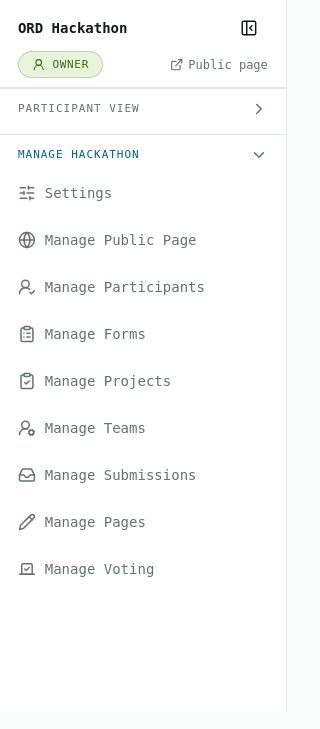
it: HackathonSidebar's Participant View section › closes again from the chevron
The width and height of the screenshot is (320, 729).
What coordinates should you click on to do the following:
click the button with aria-label "Show Participant View"
I would click on:
 (79, 109)
Its box is [9, 98, 277, 123].
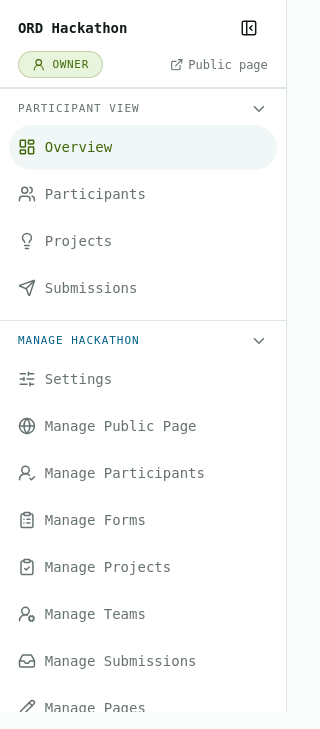
What coordinates should you click on to do the following:
click the button with aria-label "Hide Participant View"
I would click on:
 (79, 109)
Its box is [9, 98, 277, 123].
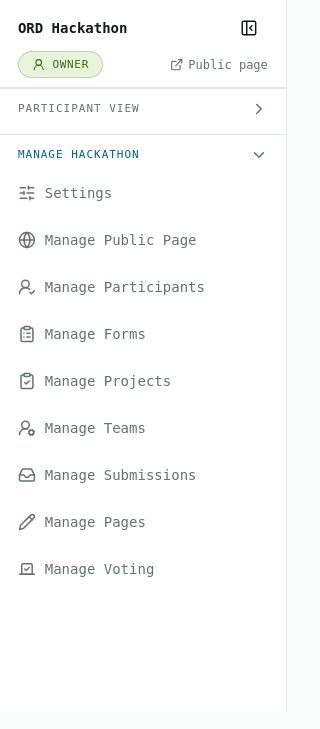
Result: the link "Overview" is gone
